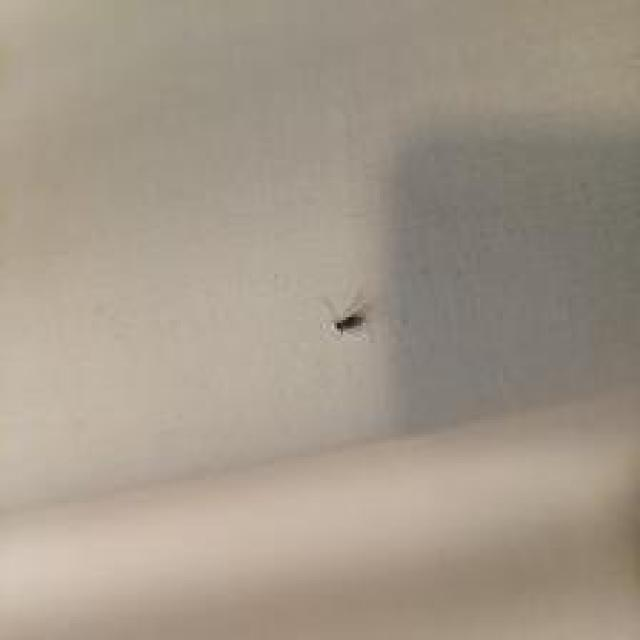Culex: (331, 307, 366, 336)
